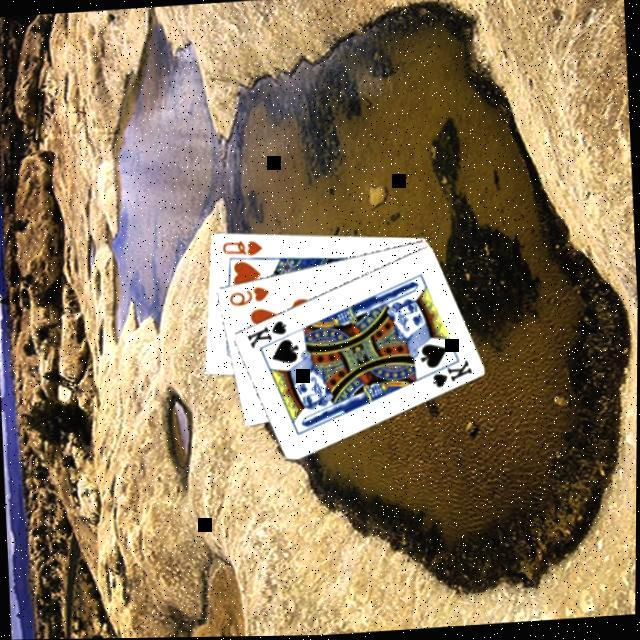9H: (224, 280, 272, 308)
KS: (420, 354, 475, 392), (242, 316, 290, 350)
QH: (217, 234, 264, 259)
